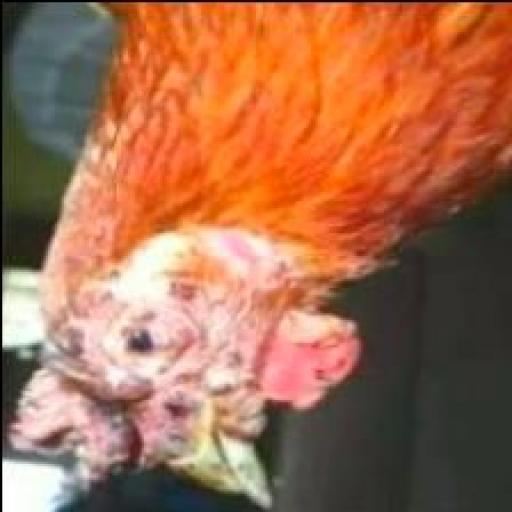disease: (2, 210, 364, 501)
